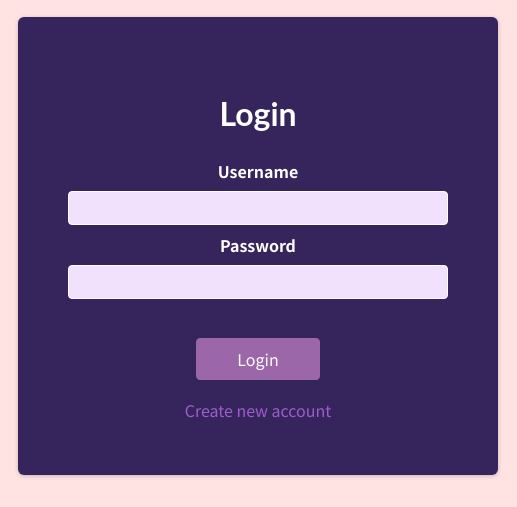
Test case: AuthForm › Renders register user page on button click
Click the button "Create new account": point(258, 410) left=161, top=396, right=355, bottom=425
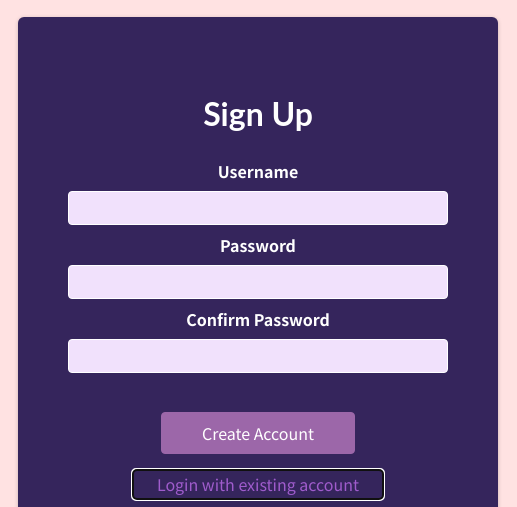
Now the button "Login with existing account" is shown, box left=133, top=470, right=383, bottom=499
